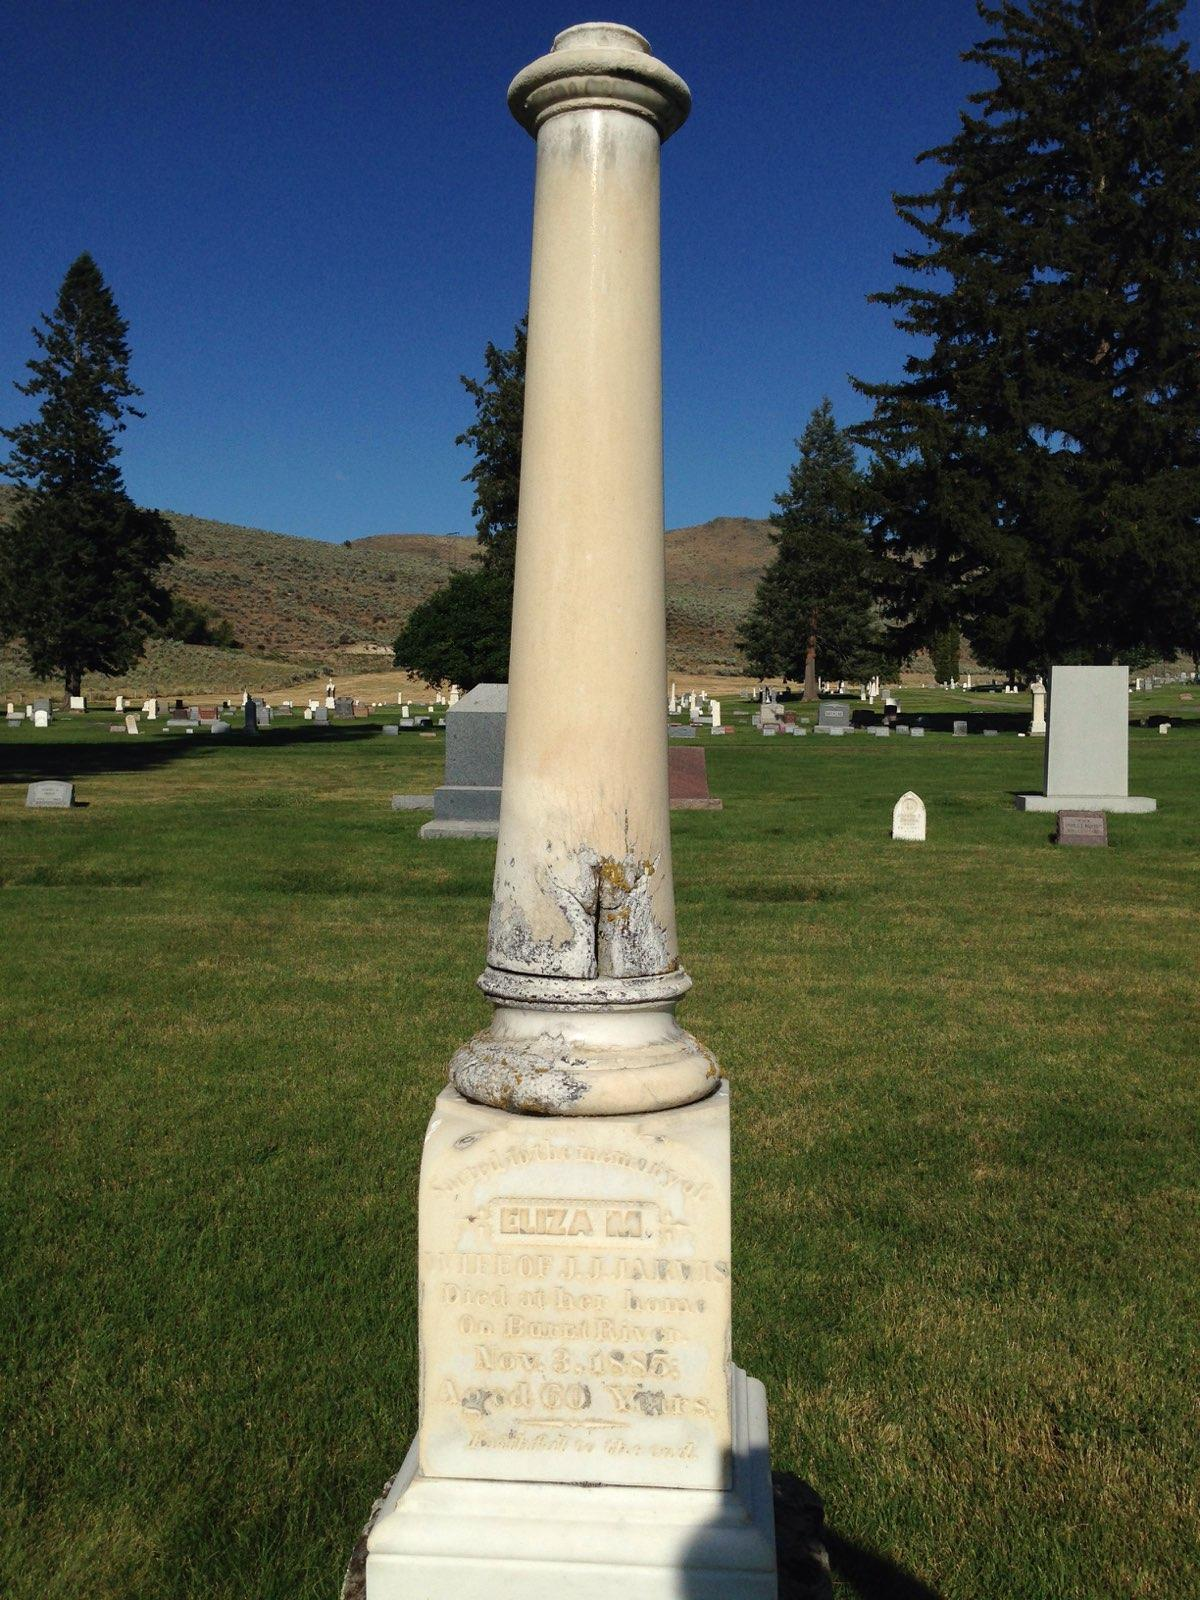obelisk: (417, 16, 737, 1500)
